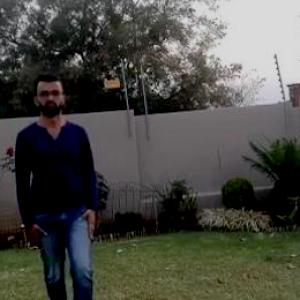follow: (21, 84, 96, 299)
